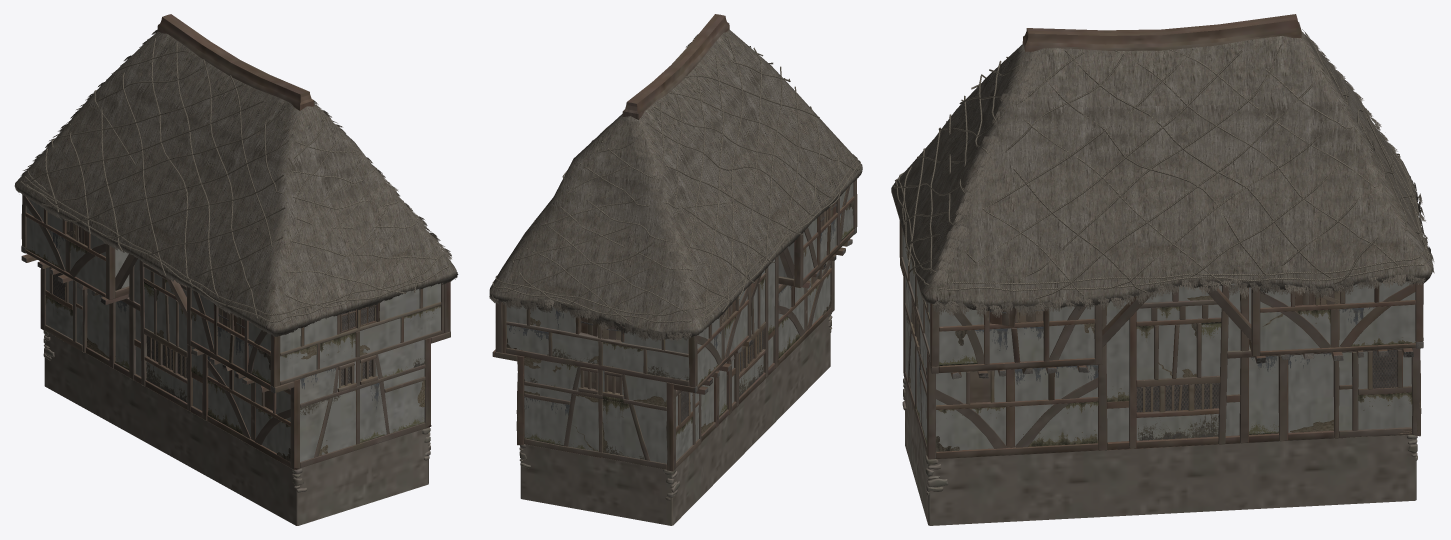
The model's file is House_Three.glb.
The picture shows the model from 3 angles, left to right: view 1: azimuth 30°, elevation 25°; view 2: azimuth 150°, elevation 25°; view 3: azimuth 270°, elevation 25°; orthographic projection. The views are drawn at different scales.
Visible parts, largest first — view 1: House_Three; view 2: House_Three; view 3: House_Three.
Boxes of the visible parts, x1,y1,x2,y2 form: House_Three: (14,14,458,525); House_Three: (489,14,862,525); House_Three: (891,14,1434,525).
Size of the model in its own units: 11.93 by 17.24 by 19.02.
Materials: 10 (10 with a texture image).
